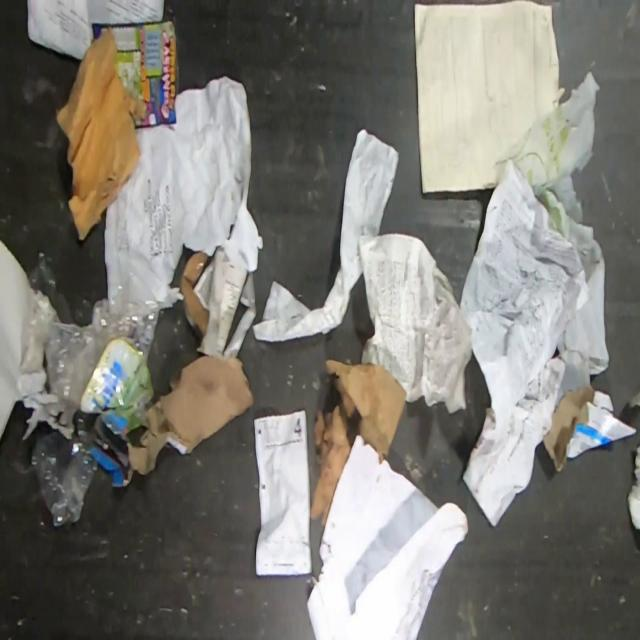cardboard: (54, 26, 146, 241), (308, 358, 408, 527), (543, 384, 638, 473), (180, 251, 213, 342)
soft_plastic: (19, 252, 160, 527), (509, 70, 610, 377)
